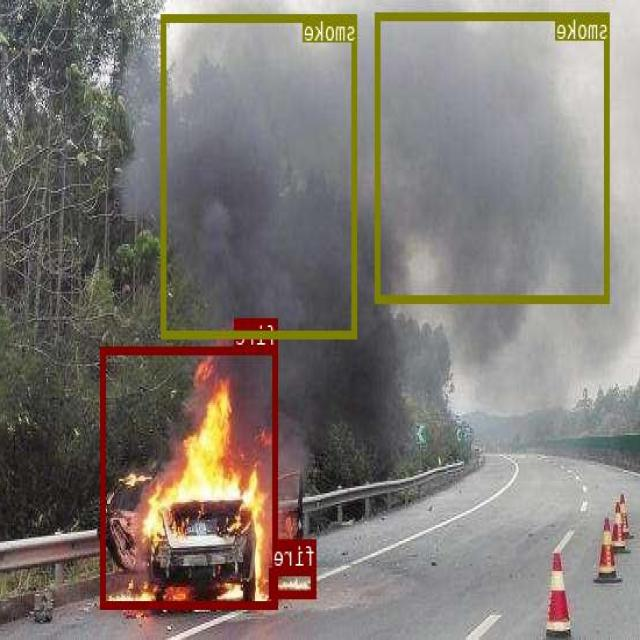fire: (102, 346, 279, 607), (271, 566, 317, 596)
smoke: (376, 11, 610, 301), (162, 14, 358, 336)
